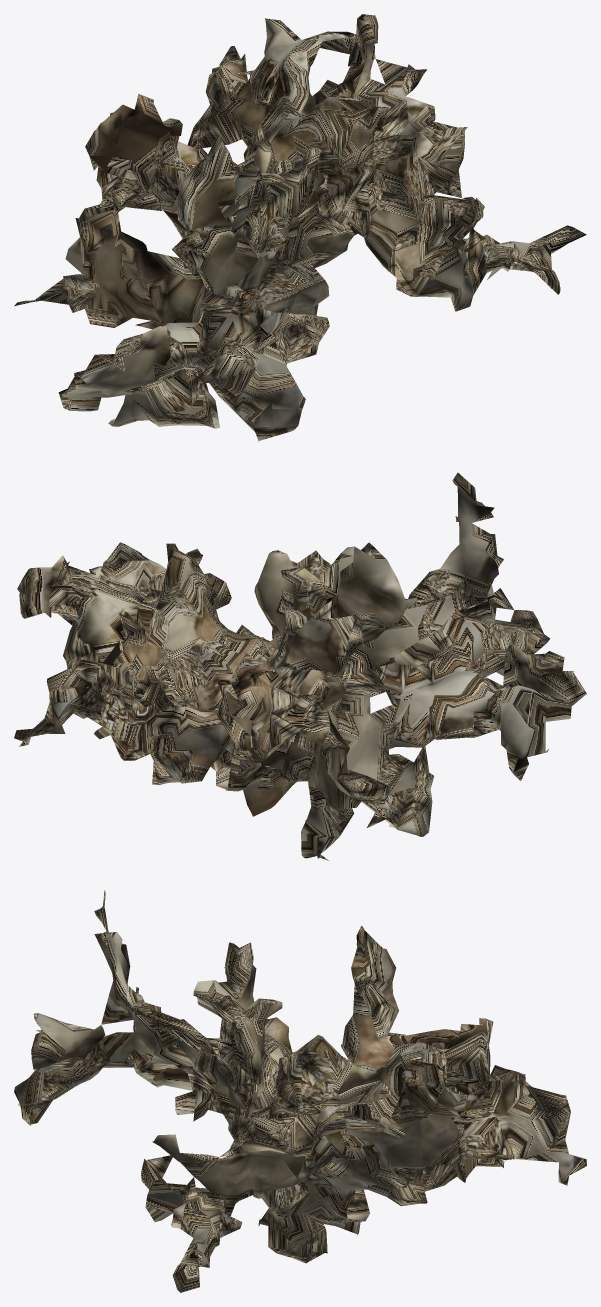
The model's file is coral-leptoseris.glb.
The picture shows the model from 3 angles, top to bottom: view 1: azimuth 30°, elevation 25°; view 2: azimuth 150°, elevation 25°; view 3: azimuth 270°, elevation 25°; orthographic projection. The views are drawn at different scales.
Bounding box in the file's own units: 0.0839 × 0.05 × 0.079.
1 material, 1 textured.
